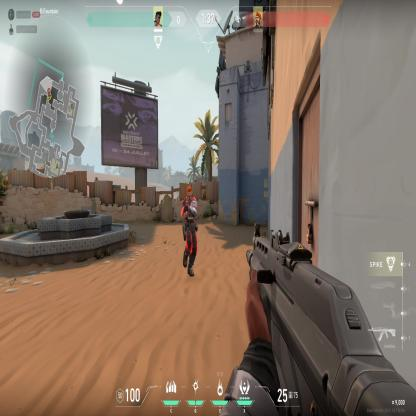enemy: (180, 185, 198, 280)
